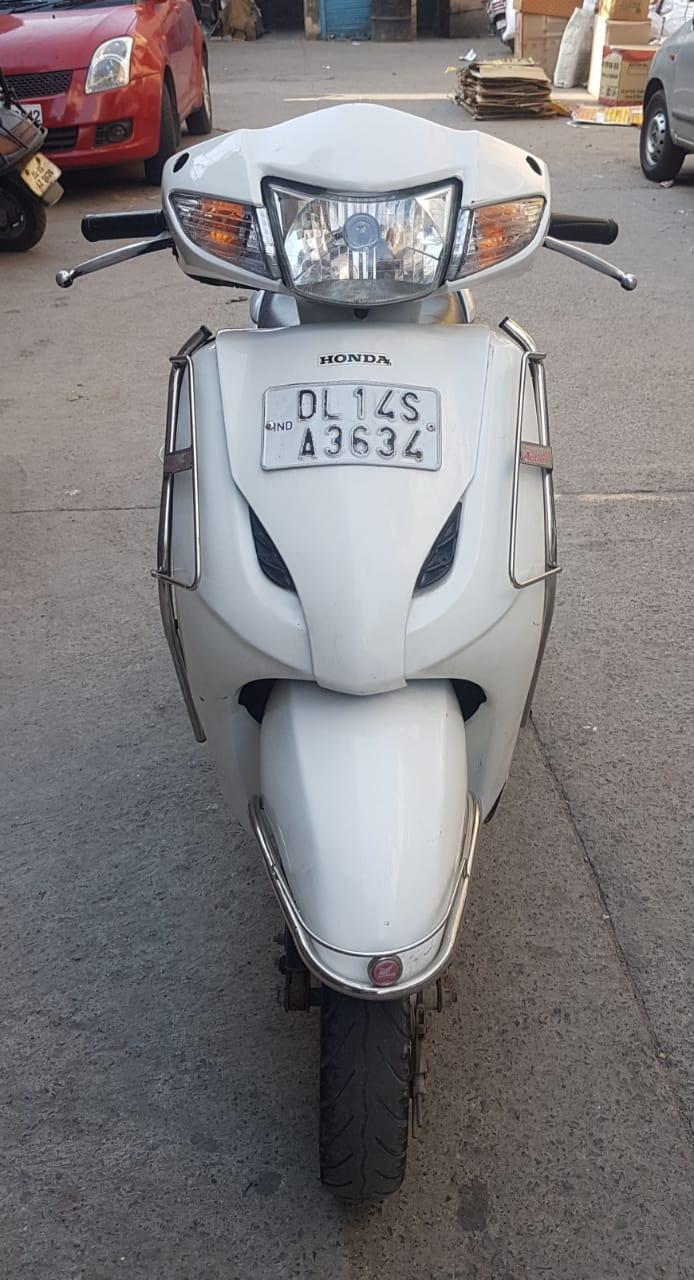doublelinenumberplate: (261, 380, 443, 470)
